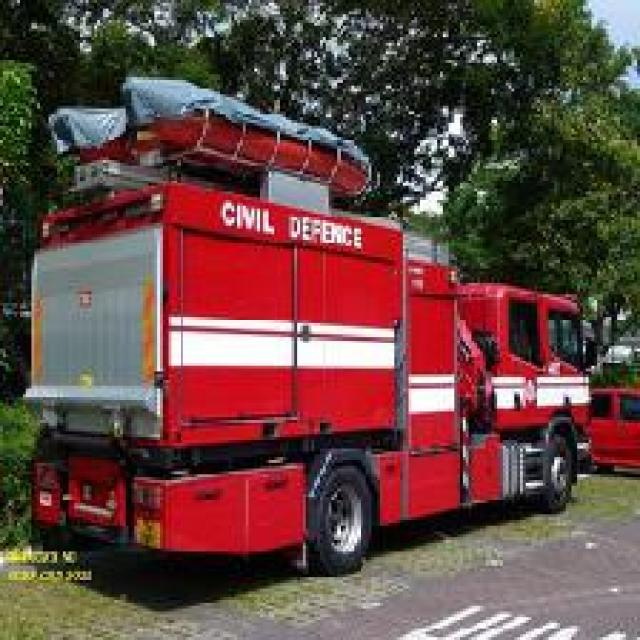Fire-truck: (20, 75, 594, 574)
